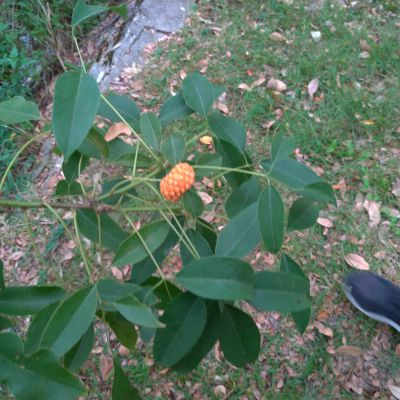eggs: (155, 158, 201, 199)
